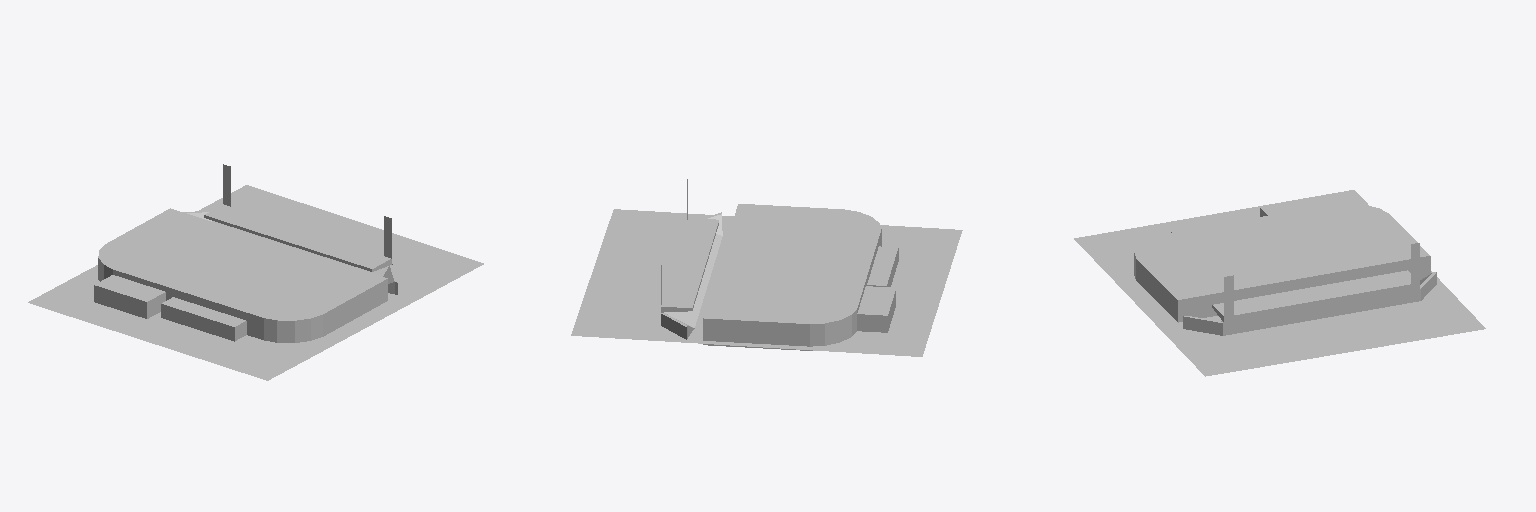
Rendered from Stade Ernest-Wallon.obj.
3 views of the same model, side by side, from view 1: azimuth 30°, elevation 25°; view 2: azimuth 150°, elevation 25°; view 3: azimuth 270°, elevation 25° (orthographic).
Visible parts, largest first — view 1: Mesh2 Model, Mesh1 Google_Earth_Snapshot Model, Mesh3 Model; view 2: Mesh2 Model, Mesh1 Google_Earth_Snapshot Model, Mesh3 Model; view 3: Mesh2 Model, Mesh1 Google_Earth_Snapshot Model, Mesh3 Model.
Boxes of the visible parts, <box> form: Mesh2 Model: <box>94,208,387,342</box>; Mesh1 Google_Earth_Snapshot Model: <box>28,185,483,380</box>; Mesh3 Model: <box>183,164,397,294</box>; Mesh2 Model: <box>703,204,898,350</box>; Mesh1 Google_Earth_Snapshot Model: <box>571,209,962,356</box>; Mesh3 Model: <box>661,179,722,339</box>; Mesh2 Model: <box>1134,197,1430,322</box>; Mesh1 Google_Earth_Snapshot Model: <box>1074,190,1485,376</box>; Mesh3 Model: <box>1183,243,1436,335</box>.
Bounding box in the file's own units: 303704 × 47828 × 283311.